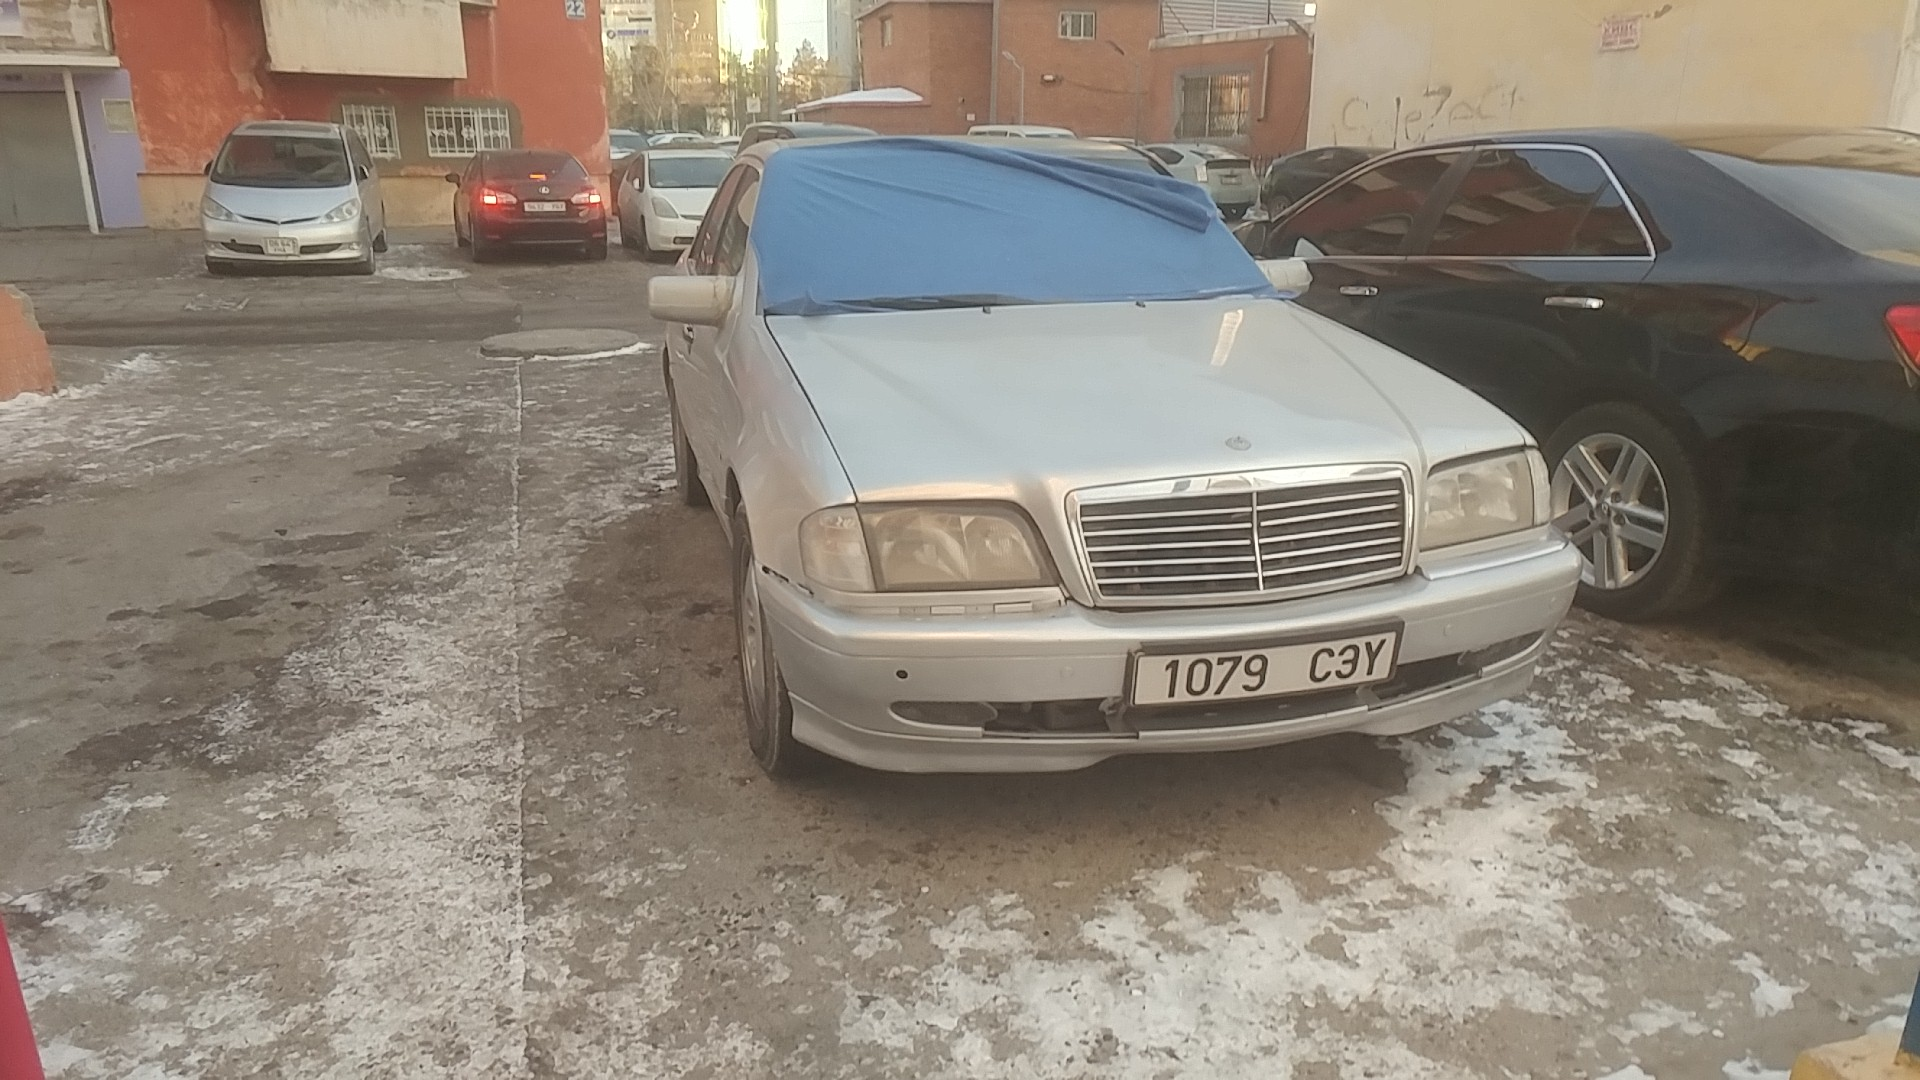0: (1185, 656, 1212, 696)
1: (1163, 656, 1182, 699)
7: (1213, 653, 1242, 695)
9: (1242, 652, 1270, 694)
e: (1336, 642, 1361, 679)
plate: (1126, 625, 1402, 714)
s: (1307, 646, 1334, 682)
uu: (1362, 637, 1388, 677)
